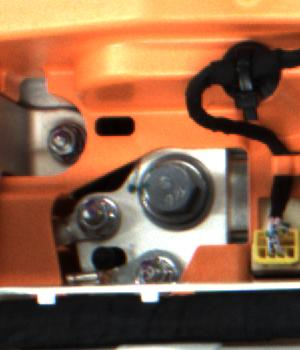nut_b: (136, 150, 224, 239)
screw_s: (72, 187, 123, 237), (130, 252, 179, 284), (43, 121, 82, 161)
